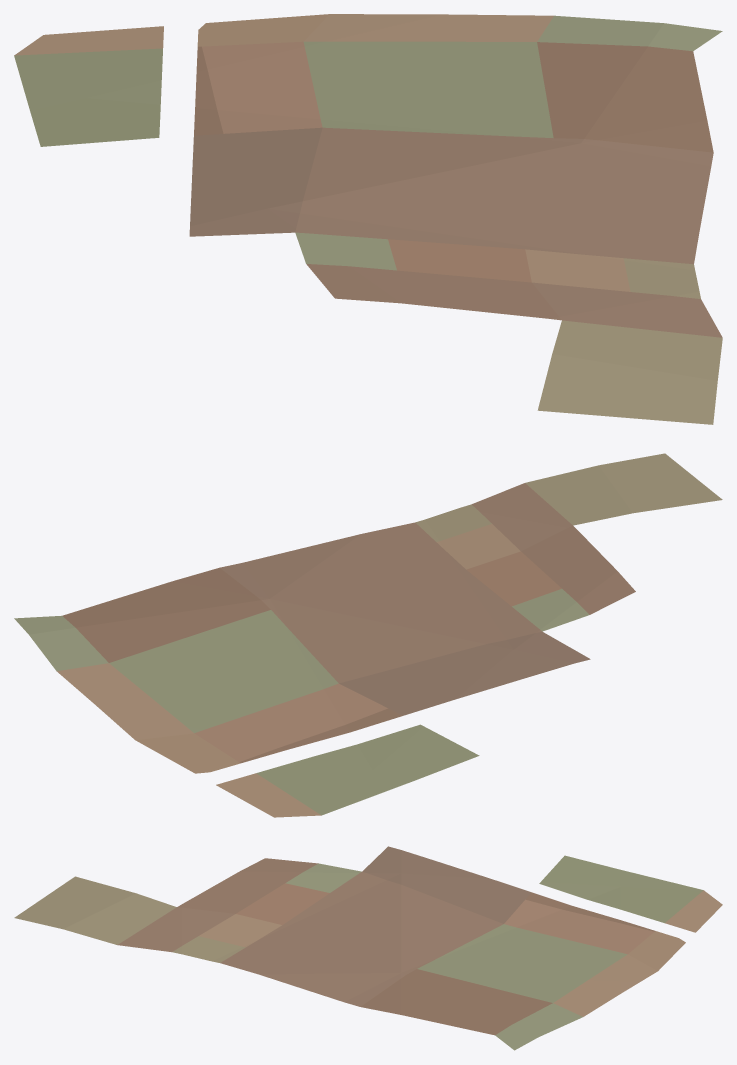
The model's file is farm_12_13_soil.glb.
3 renders of one model, top to bottom at view 1: azimuth 30°, elevation 25°; view 2: azimuth 150°, elevation 25°; view 3: azimuth 270°, elevation 25°, orthographic. The views are drawn at different scales.
Visible parts, largest first — view 1: geometry_0; view 2: geometry_0; view 3: geometry_0.
Boxes of the visible parts, x1,y1,x2,y2 form: geometry_0: (14, 14, 722, 424); geometry_0: (14, 453, 722, 817); geometry_0: (14, 846, 722, 1050).
Bounding box in the file's own units: 163 × 8.44 × 259.
